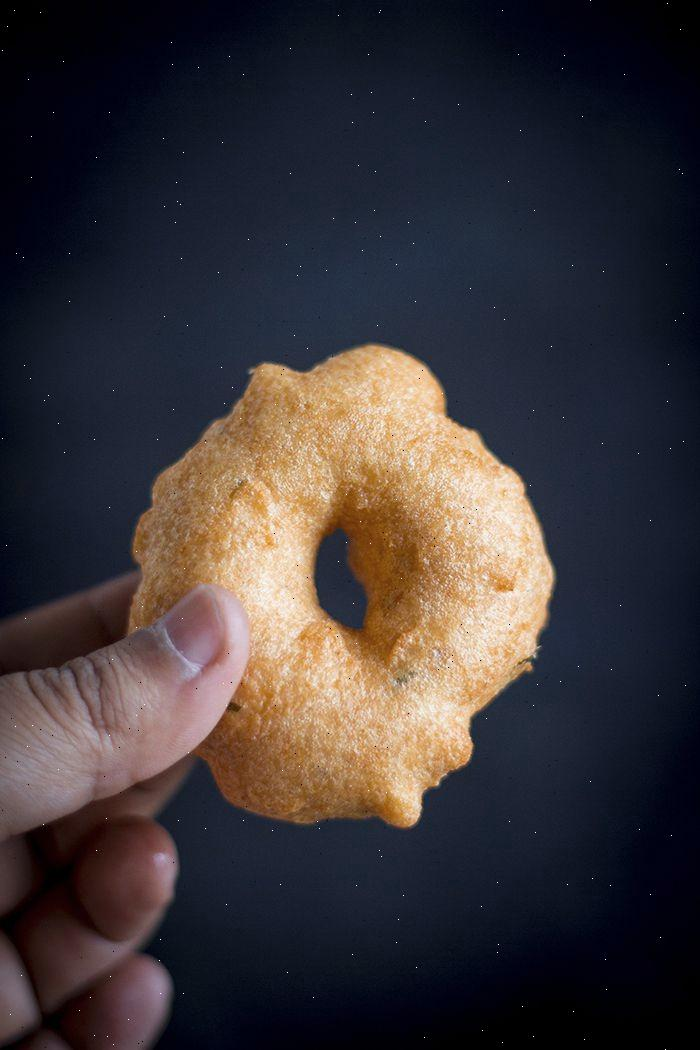medu vada: (137, 354, 574, 822)
